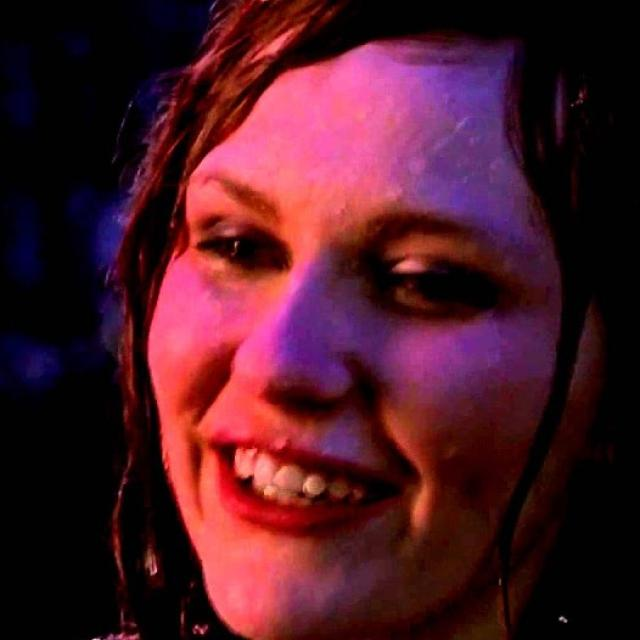Normal: (141, 43, 605, 636)
